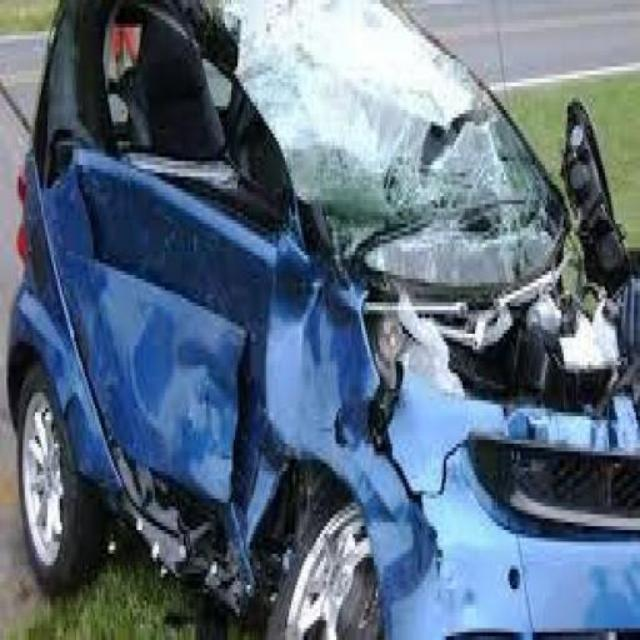crash: (29, 3, 640, 639)
